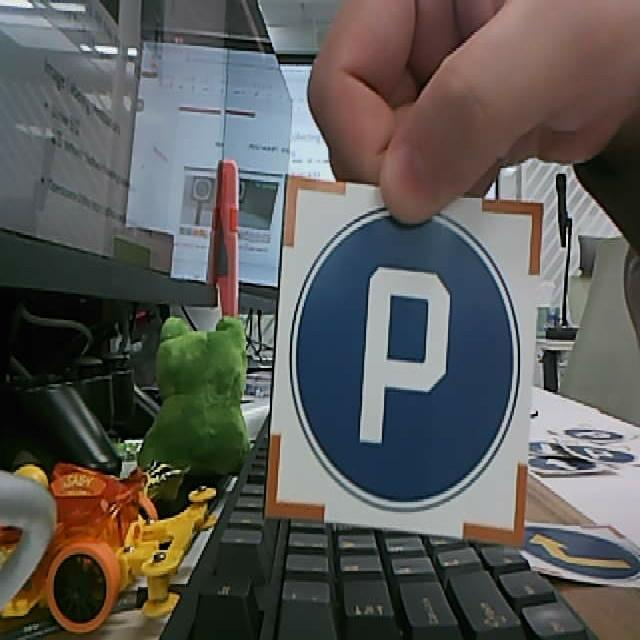parking: (287, 205, 526, 514)
